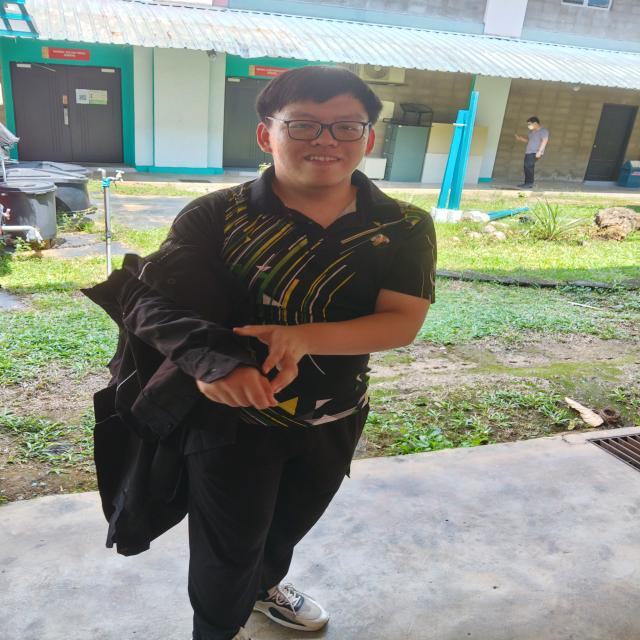person_without_labcoat: (83, 66, 436, 640)
